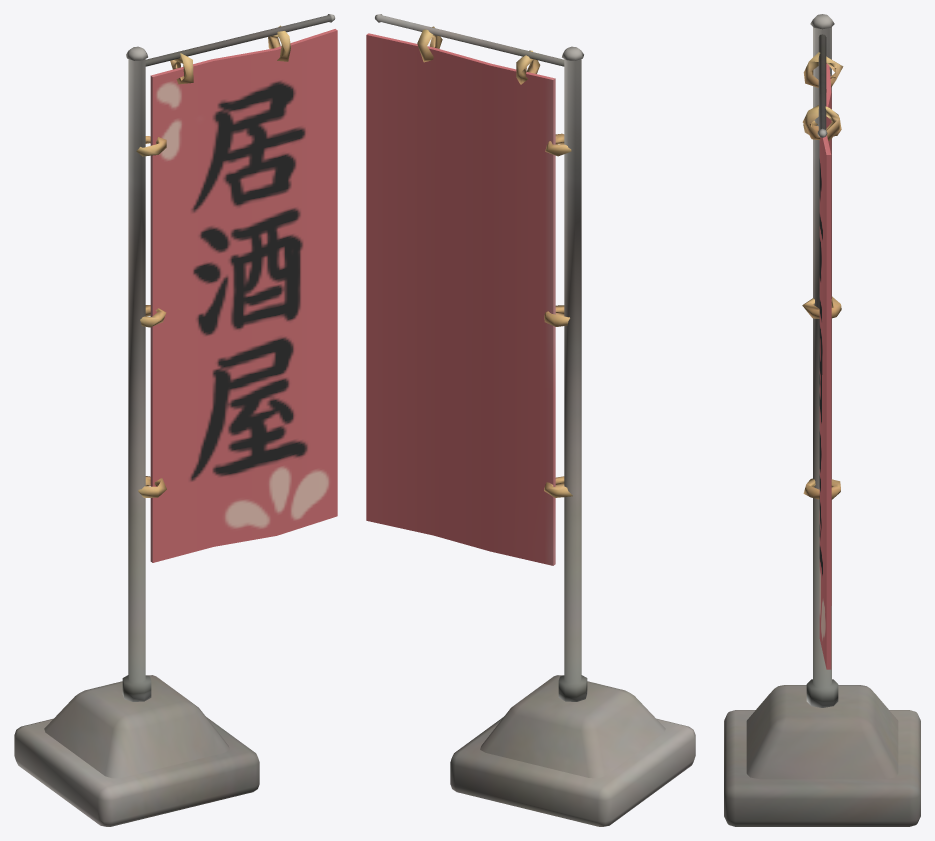
The model's file is StandingBanner.fbx.
3 renders of one model, left to right at view 1: azimuth 30°, elevation 25°; view 2: azimuth 150°, elevation 25°; view 3: azimuth 270°, elevation 25°, orthographic. The views are drawn at different scales.
Parts seen in each view (by area): view 1: Standing Banner; view 2: Standing Banner; view 3: Standing Banner.
Part boxes in pixels (x1,y1,x2,y2): Standing Banner: [14, 14, 337, 826]; Standing Banner: [366, 14, 695, 826]; Standing Banner: [724, 14, 920, 826].
Bounding box in the file's own units: 0.9139 × 2.25 × 0.5202.
Materials: 1 (1 with a texture image).
